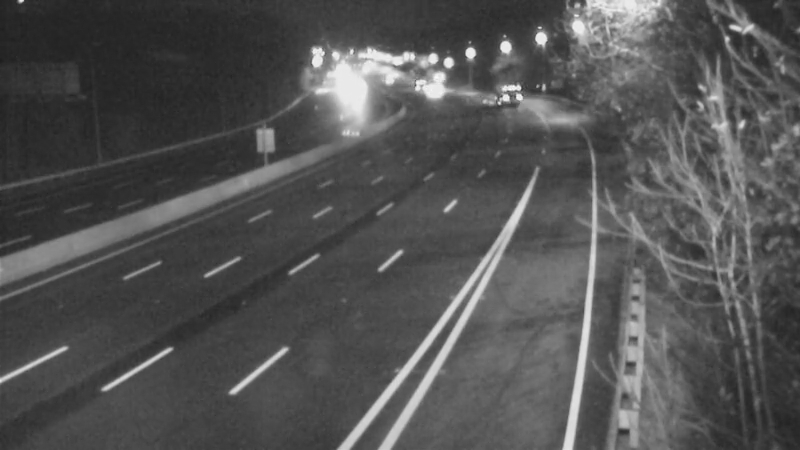vehicle: (412, 65, 462, 115), (480, 67, 530, 117), (334, 68, 384, 118)
